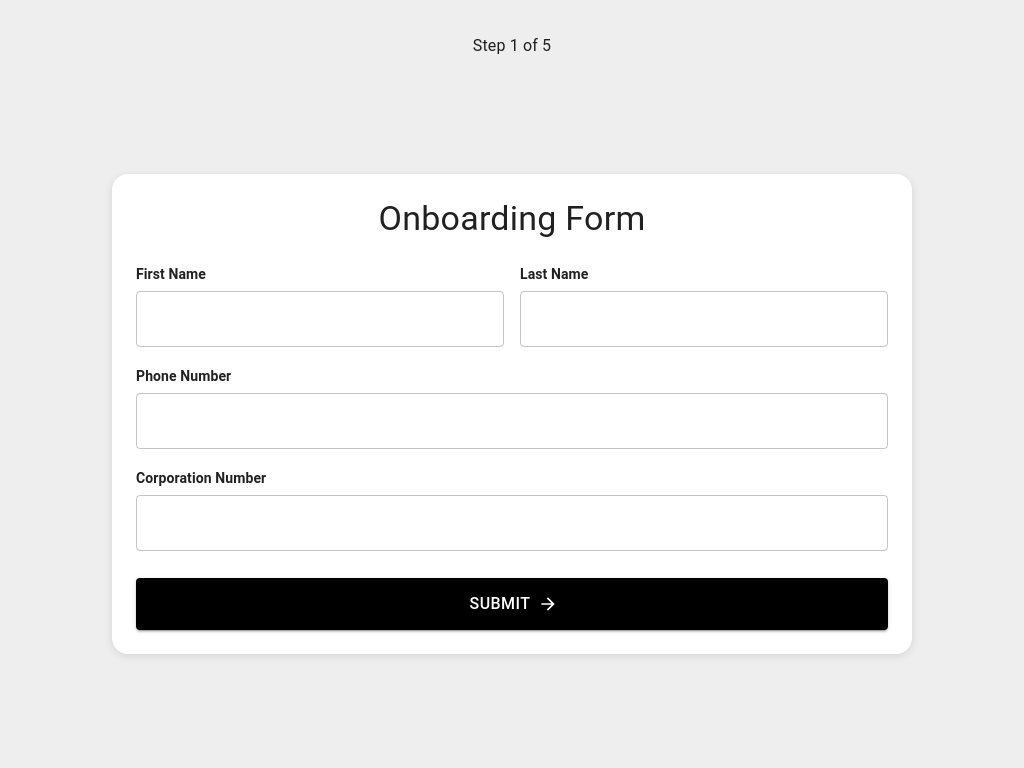
OnboardingForm › submits form with valid data
Type "Hello" into the element named "firstName" at (320, 319), box left=136, top=291, right=504, bottom=347
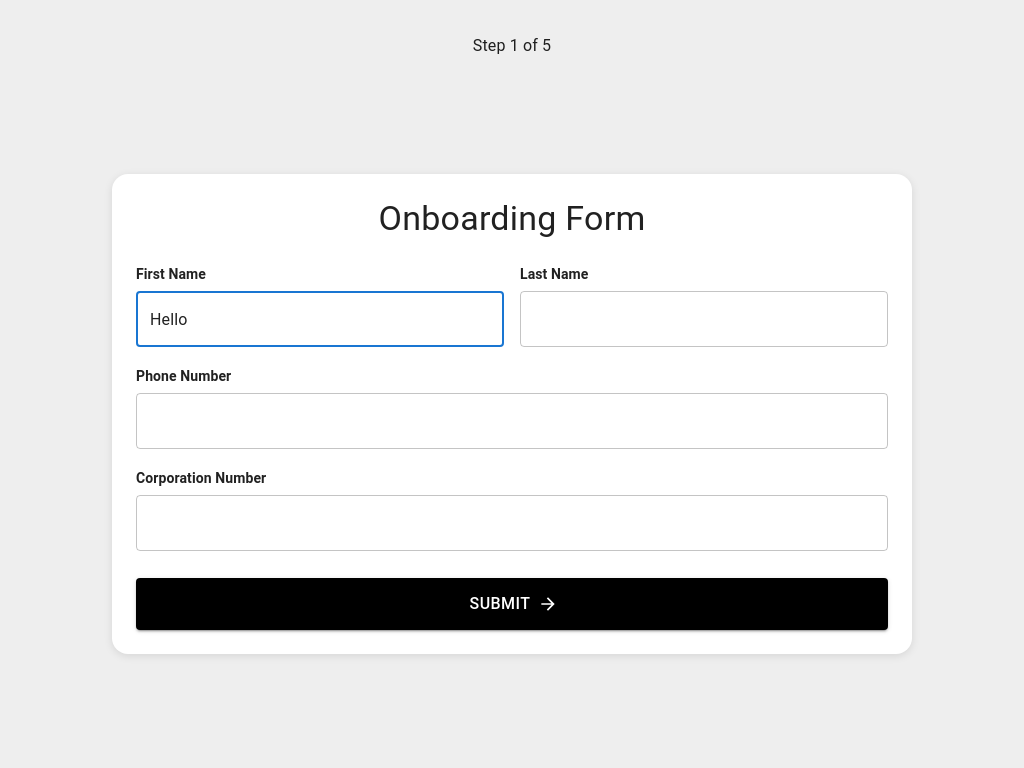
Type "World" into the element named "lastName" at (704, 319), box left=520, top=291, right=888, bottom=347
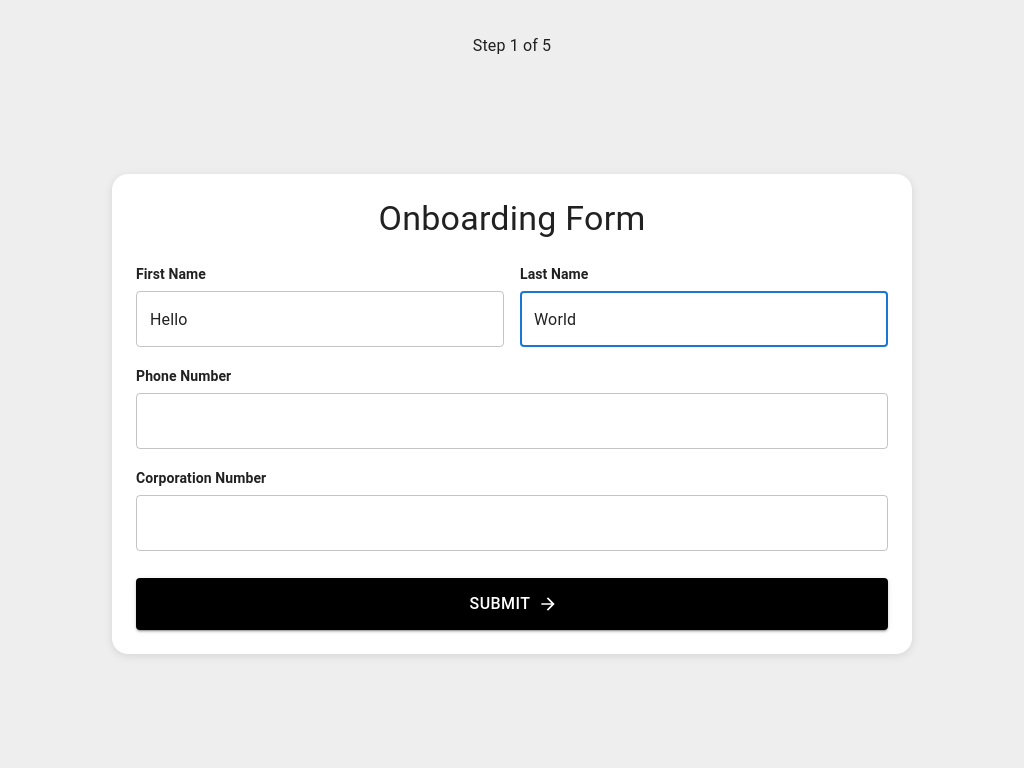
Type "+13062776103" into the element named "phone" at (512, 421), box left=136, top=393, right=888, bottom=449
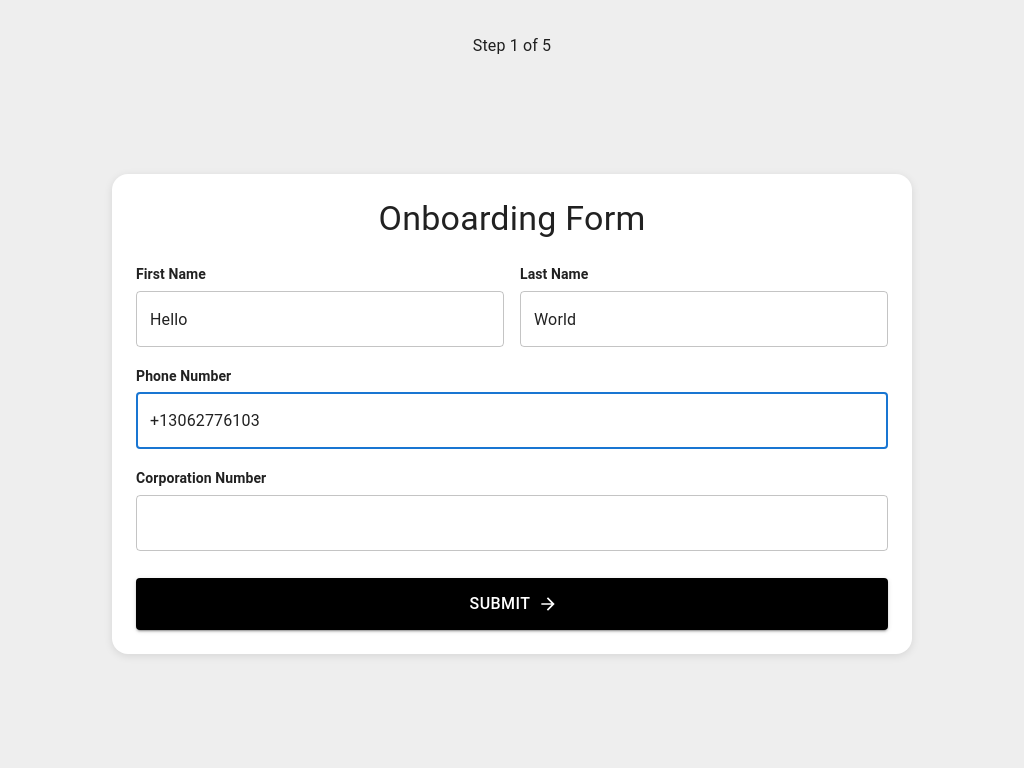
Type "826417395" into the element named "corporationNumber" at (512, 523), box left=136, top=495, right=888, bottom=551
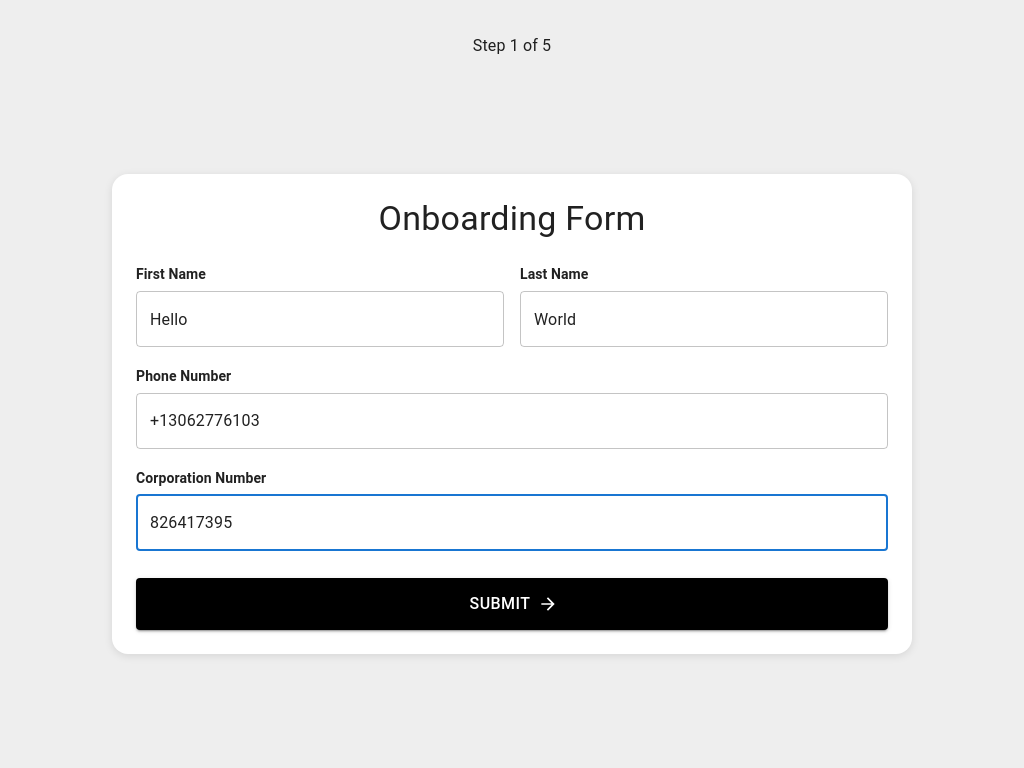
Click the button "Submit" at (512, 604), box left=136, top=578, right=888, bottom=630
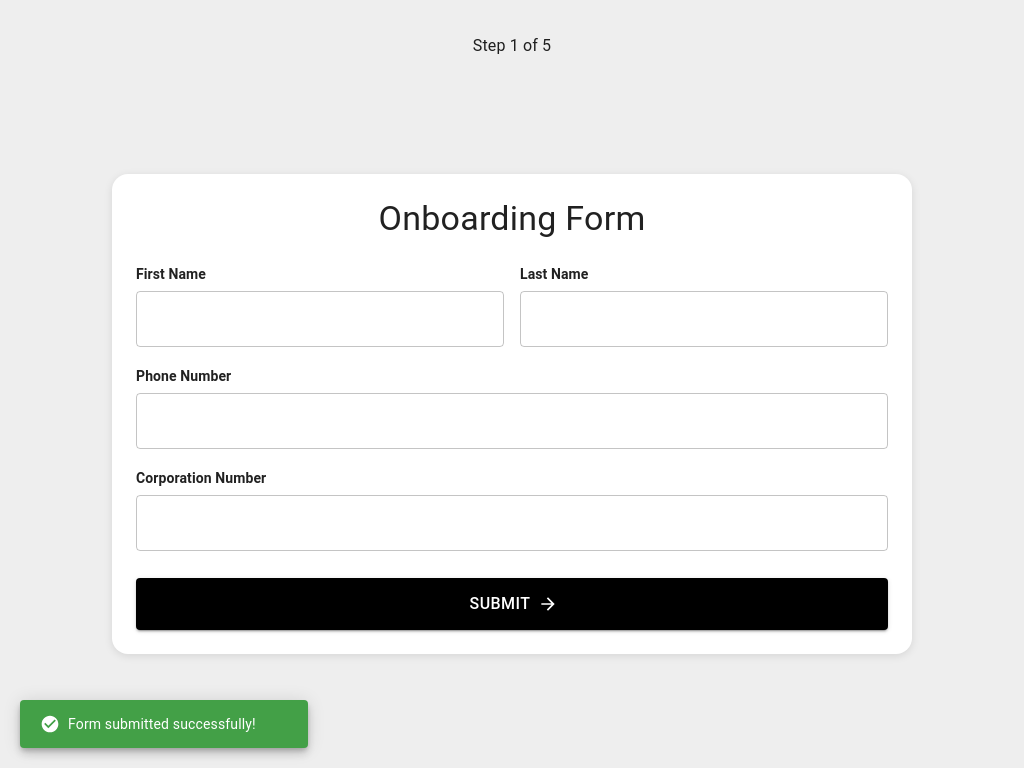
Result: the text "Form submitted successfully!" is shown at left=40, top=714, right=256, bottom=734
